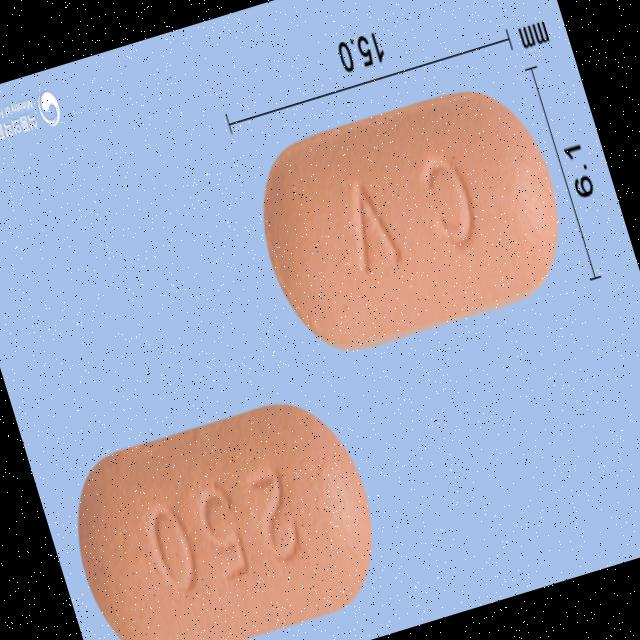Cravit - 500mg: (239, 74, 581, 368), (51, 384, 397, 640)
